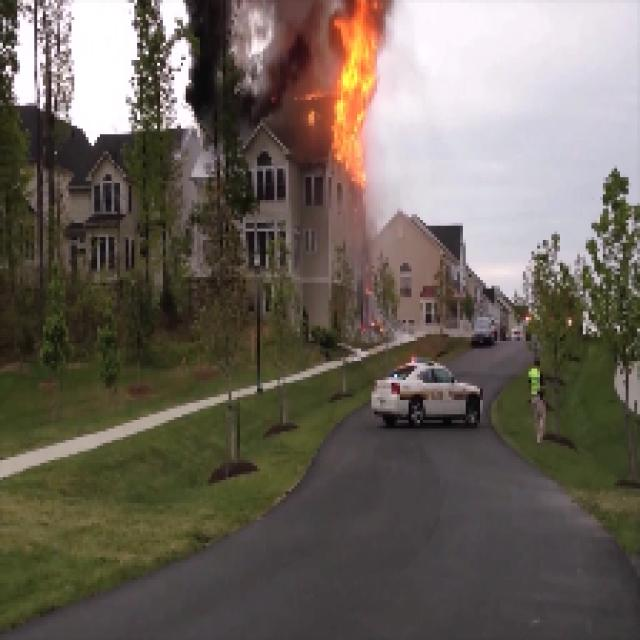fire: (330, 3, 378, 167)
smoke: (206, 3, 306, 101)
